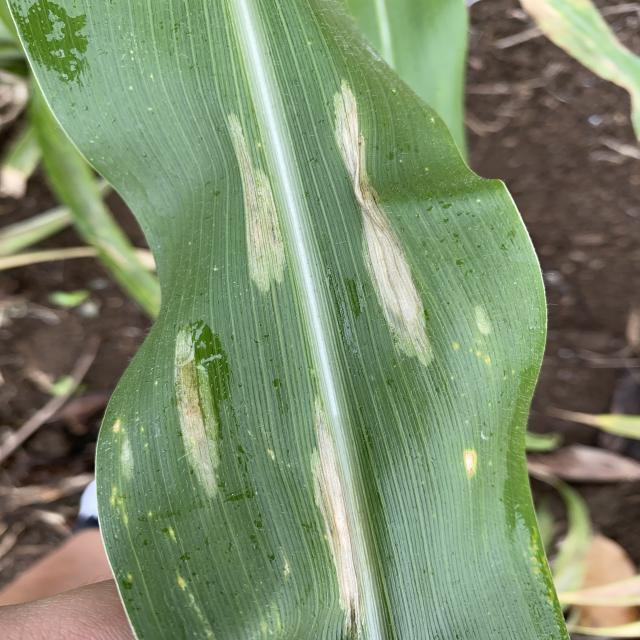Corn_Leaf_Blight: (88, 0, 559, 640)
